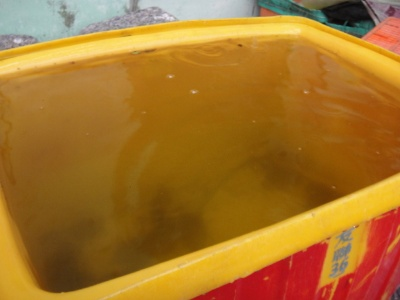box: (2, 12, 399, 300)
